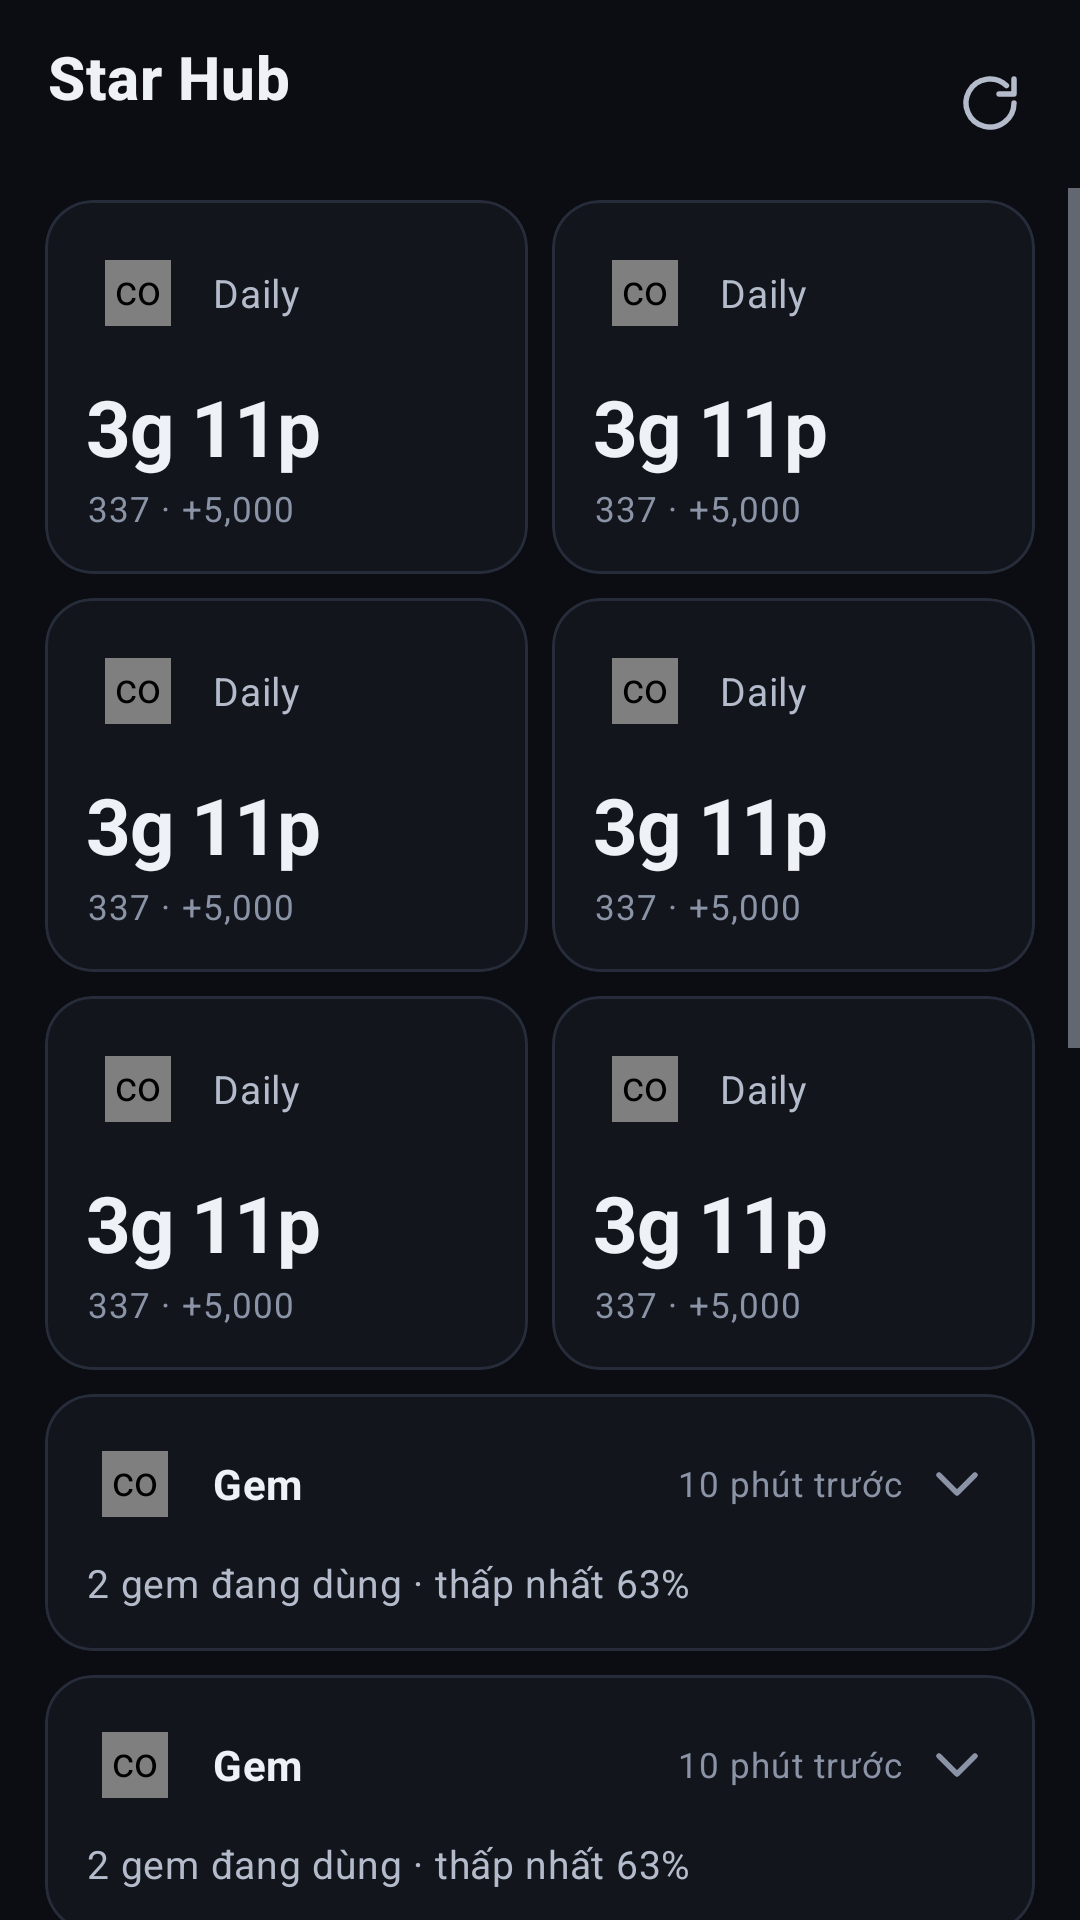

Point at icon controls on the screen. Image size 1080px×1920px, points as [x,y].
chevron down: [957,1484], [957,1765]
Làm mới: [990,103]
